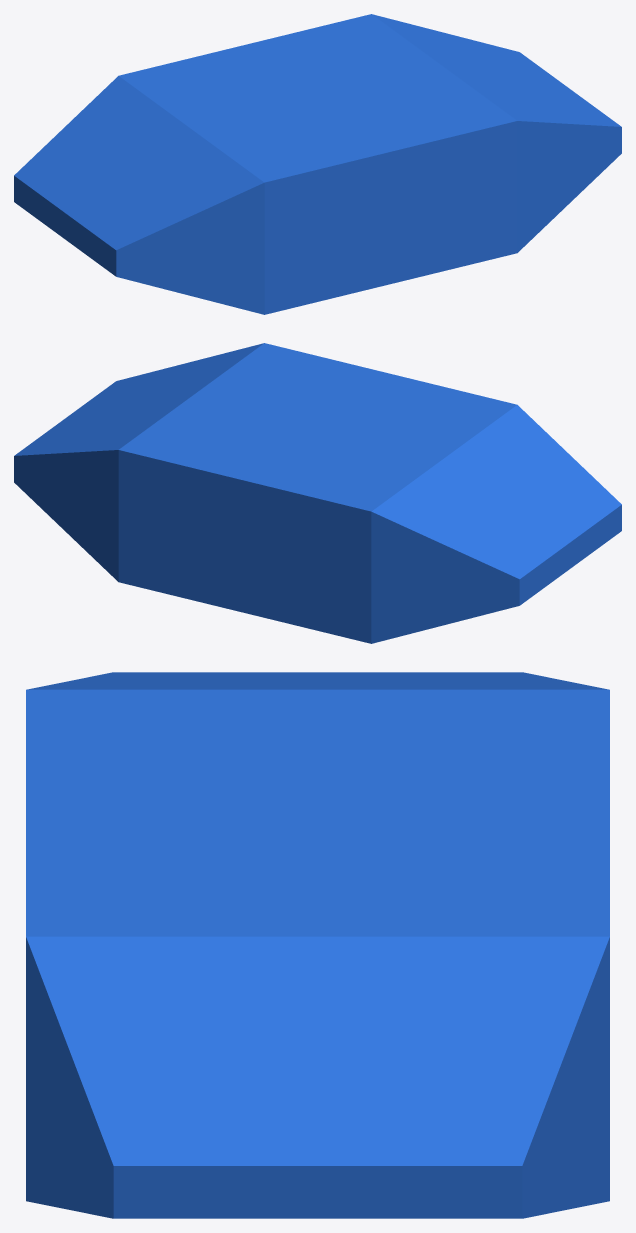
File: thrusted_ship.glb
3 views of the same model, one above another, from view 1: azimuth 30°, elevation 25°; view 2: azimuth 150°, elevation 25°; view 3: azimuth 270°, elevation 25° (orthographic). The views are drawn at different scales.
Visible parts, largest first — view 1: Cube; view 2: Cube; view 3: Cube.
Part boxes in pixels (x1,y1,x2,y2): Cube: [14, 14, 621, 314]; Cube: [14, 343, 621, 643]; Cube: [26, 672, 609, 1218].
Size of the model in its own units: 4 by 1 by 2.
